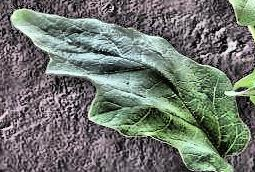HEALTHY: (1, 0, 255, 172)
